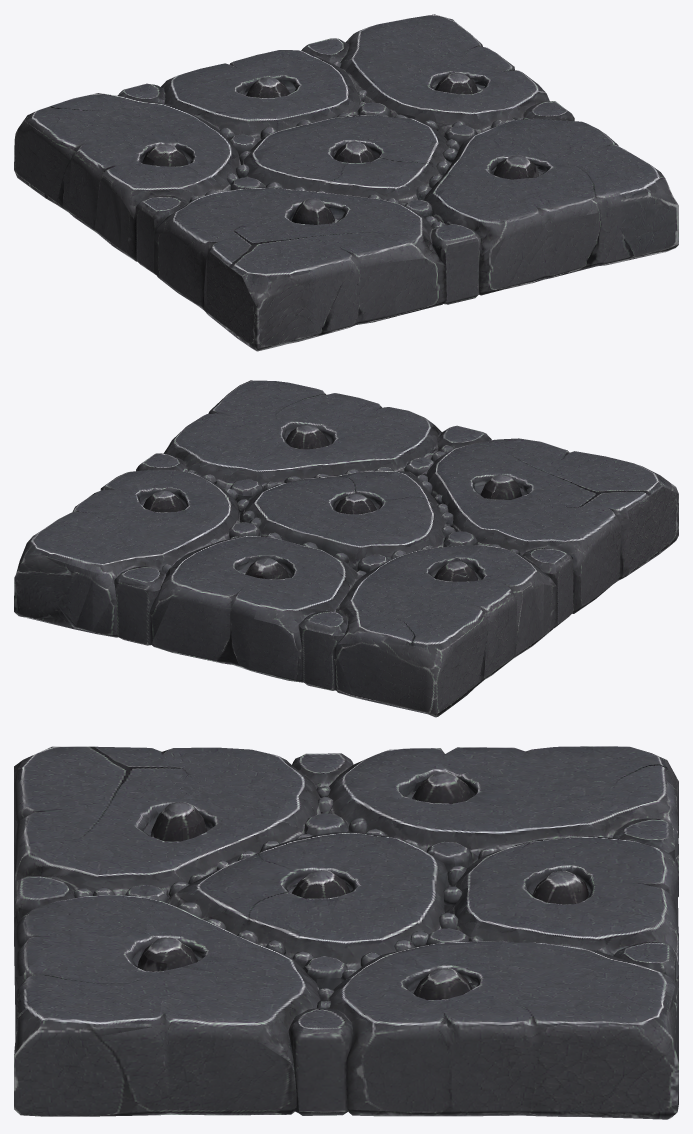
The model's file is spike_broken.glb.
The picture shows the model from 3 angles, top to bottom: view 1: azimuth 30°, elevation 25°; view 2: azimuth 150°, elevation 25°; view 3: azimuth 270°, elevation 25°; orthographic projection. The views are drawn at different scales.
Size of the model in its own units: 1 by 0.1875 by 1.
1 material, 1 textured.
